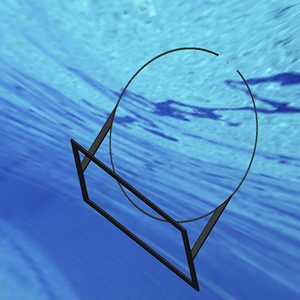circle: (69, 44, 259, 291)
